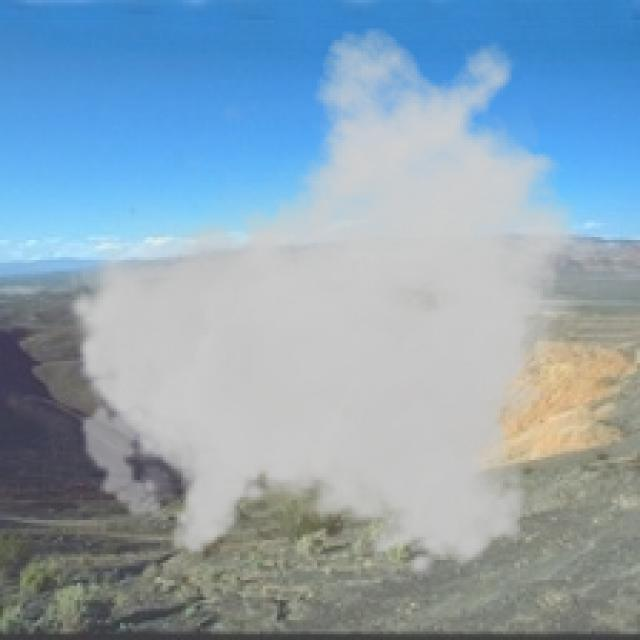smoke: (66, 26, 623, 580)
